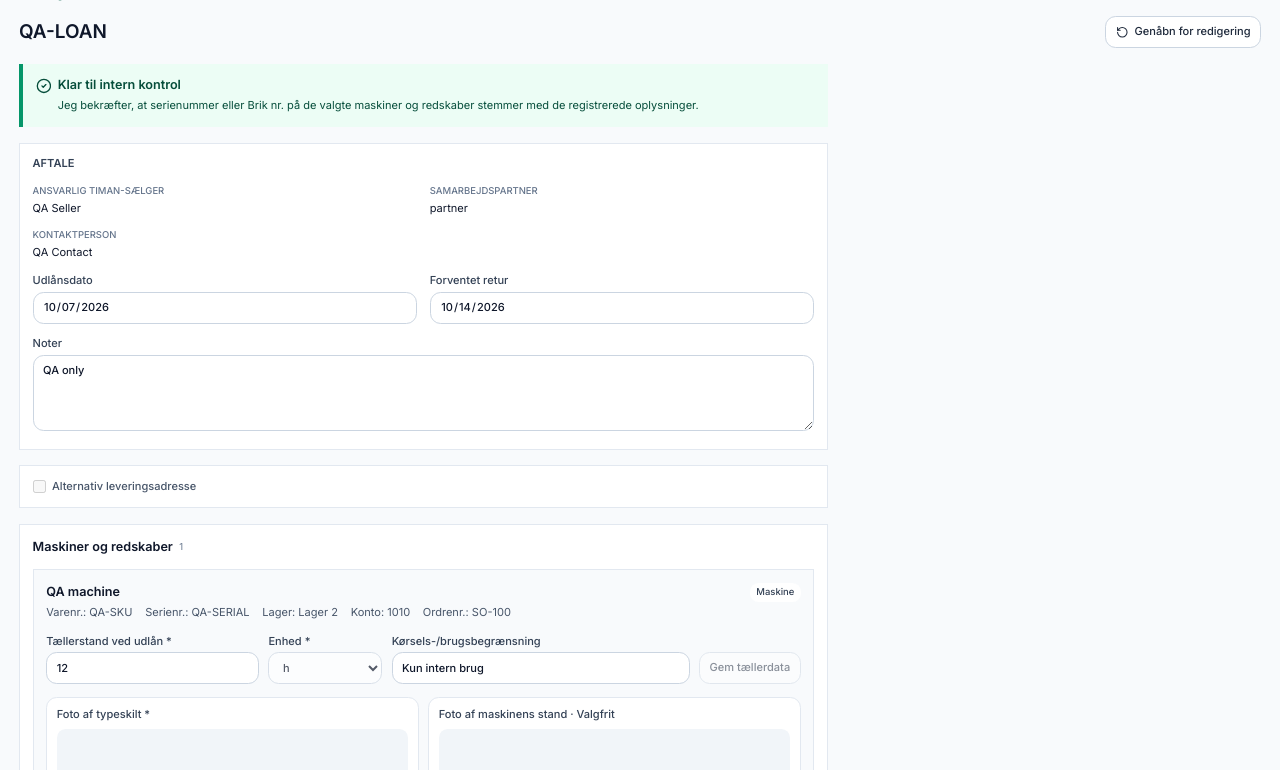
it: Loan form interactions › lets Backend reopen a review-ready loan for audited editing
expect the heading "QA-LOAN" is shown: met, box [19, 20, 107, 45]
Click the button "Genåbn for redigering". click: [1183, 32]
box: [1105, 16, 1261, 48]
(page scrolled)
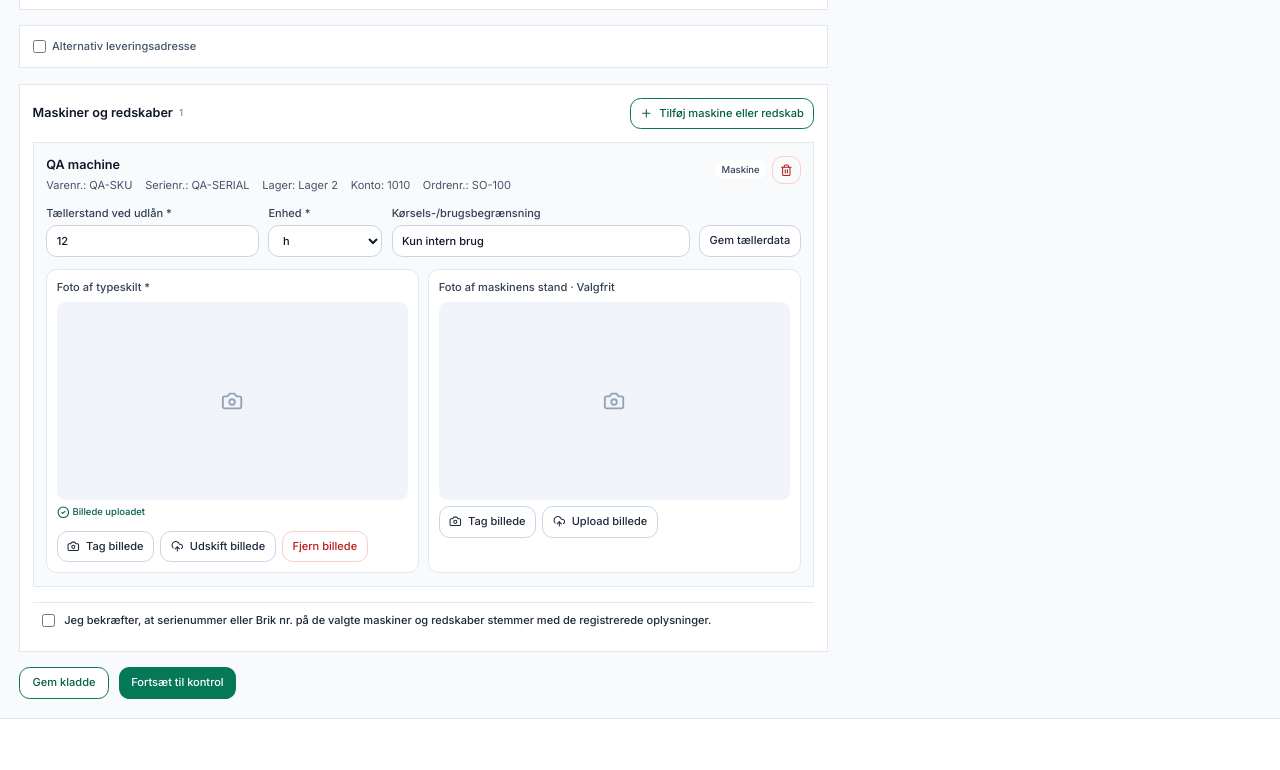
expect the checkbox labelled "Jeg bekræfter, at serienummer eller Brik nr." is not checked: met, box [42, 614, 55, 627]
